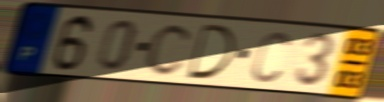0: (95, 17, 140, 74)
3: (293, 30, 338, 89)
6: (51, 12, 96, 73)
C: (143, 21, 196, 78), (249, 29, 292, 85)
D: (185, 21, 237, 81)
